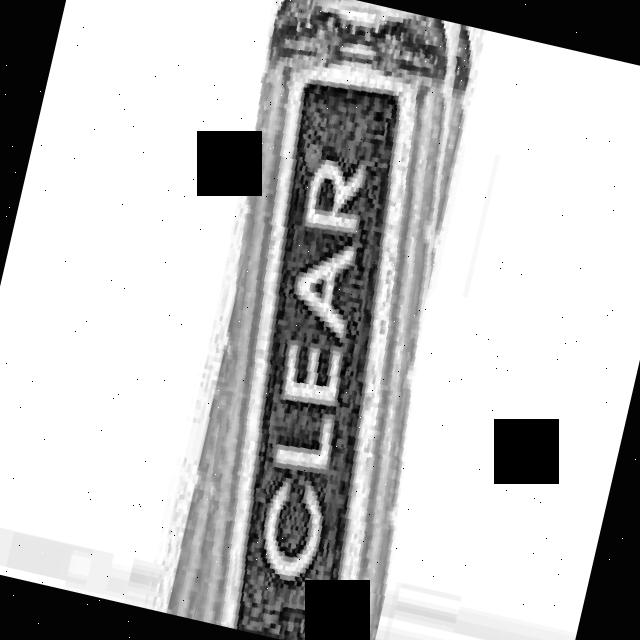bottle: (192, 0, 451, 640)
